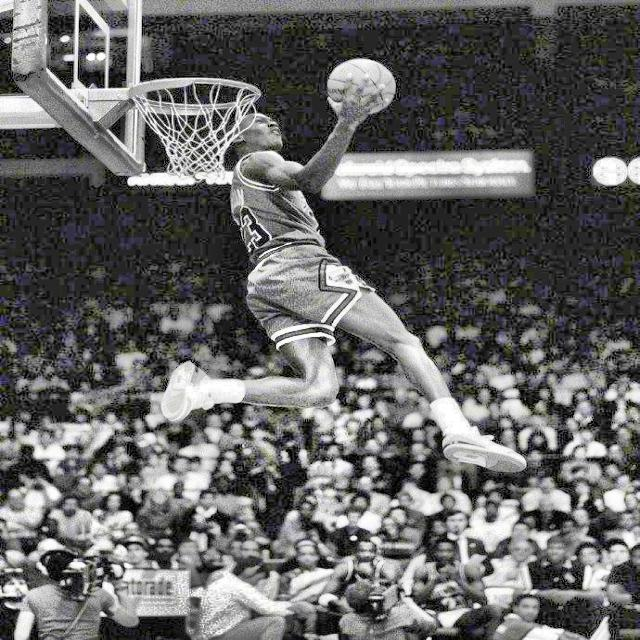rim: (127, 78, 262, 179)
